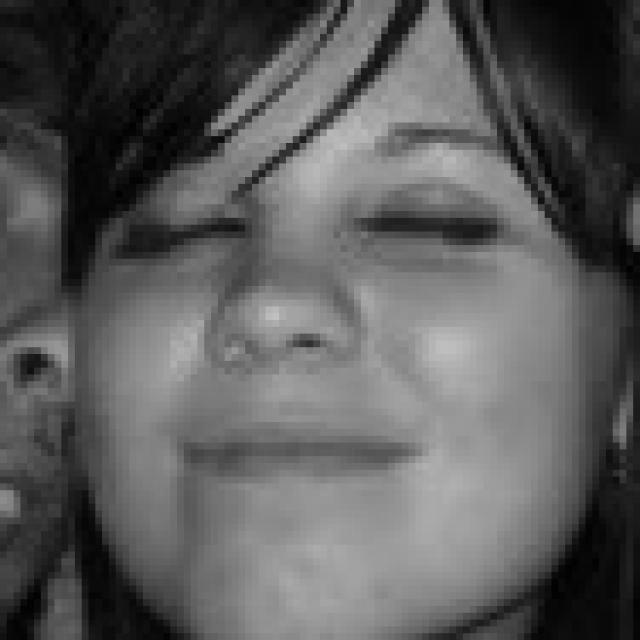real: (76, 0, 614, 640), (113, 186, 515, 284)
